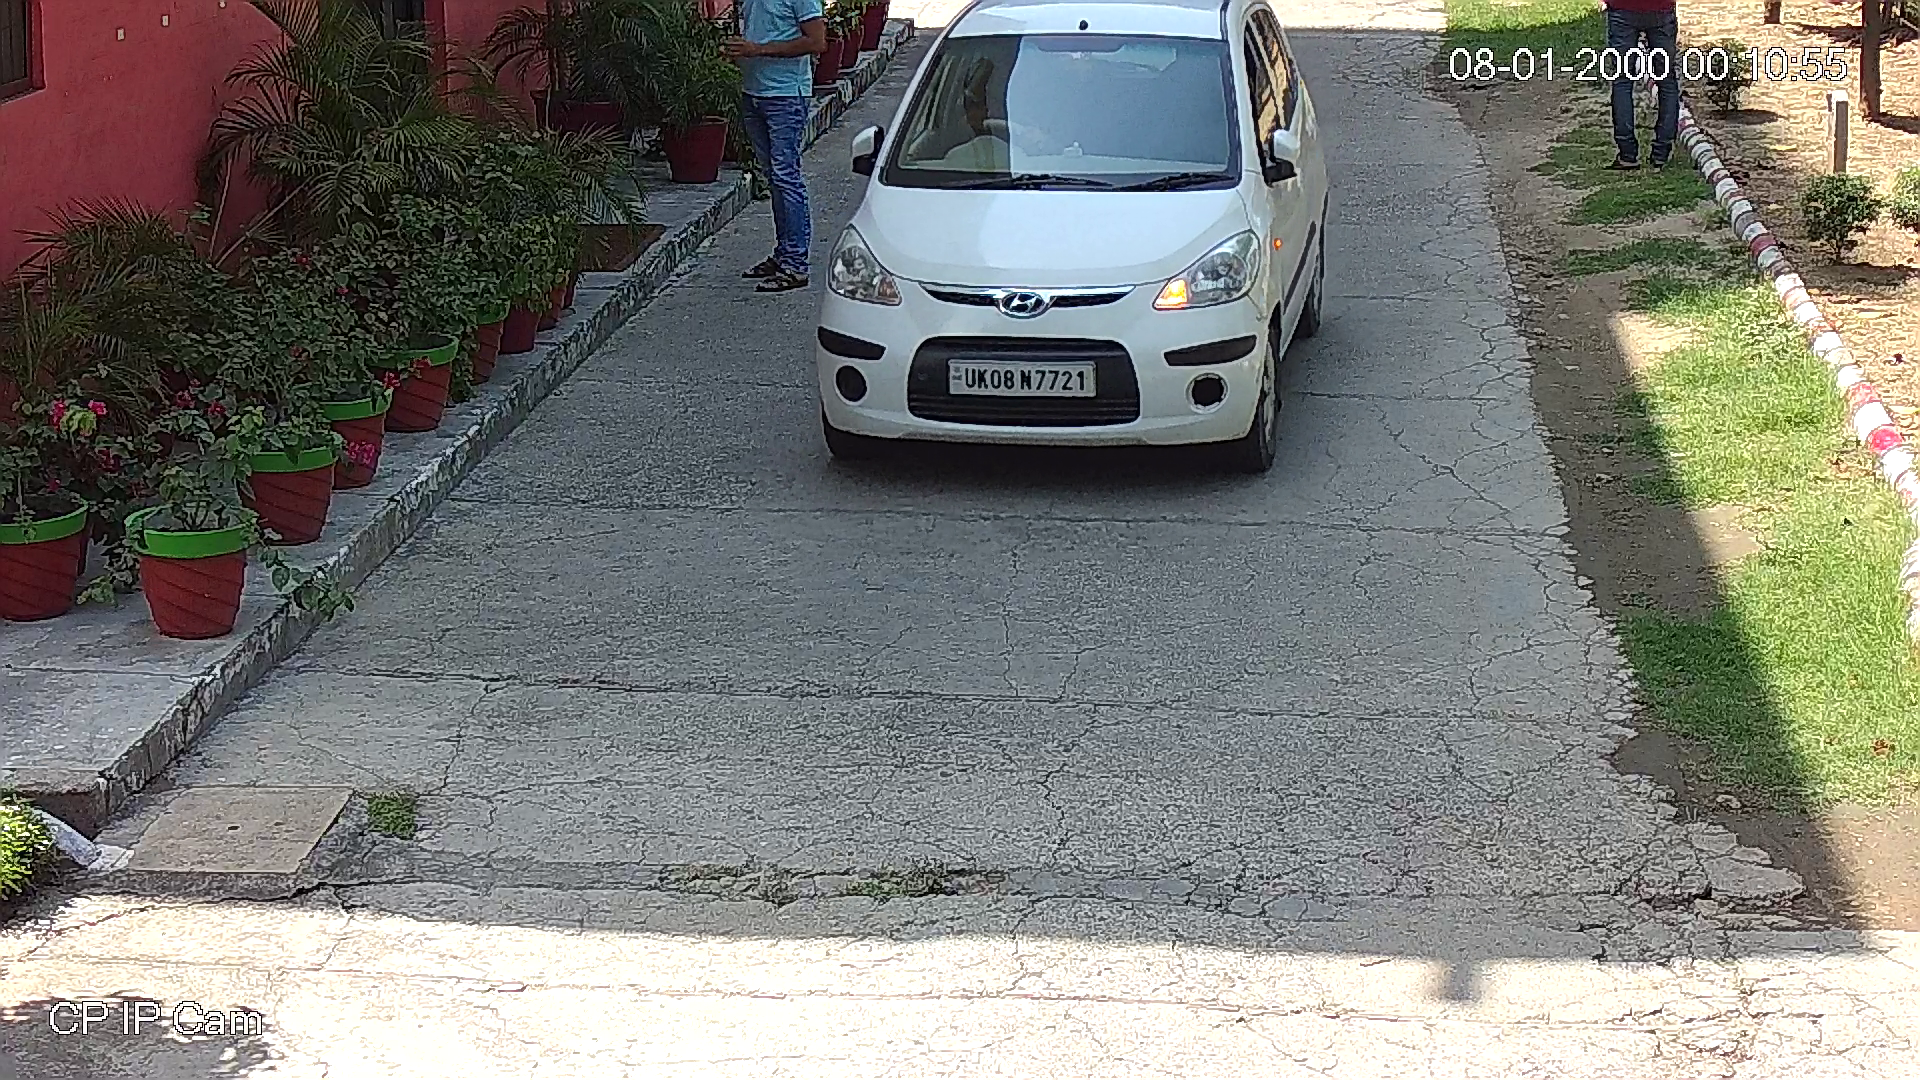plate: (949, 365, 1094, 397)
